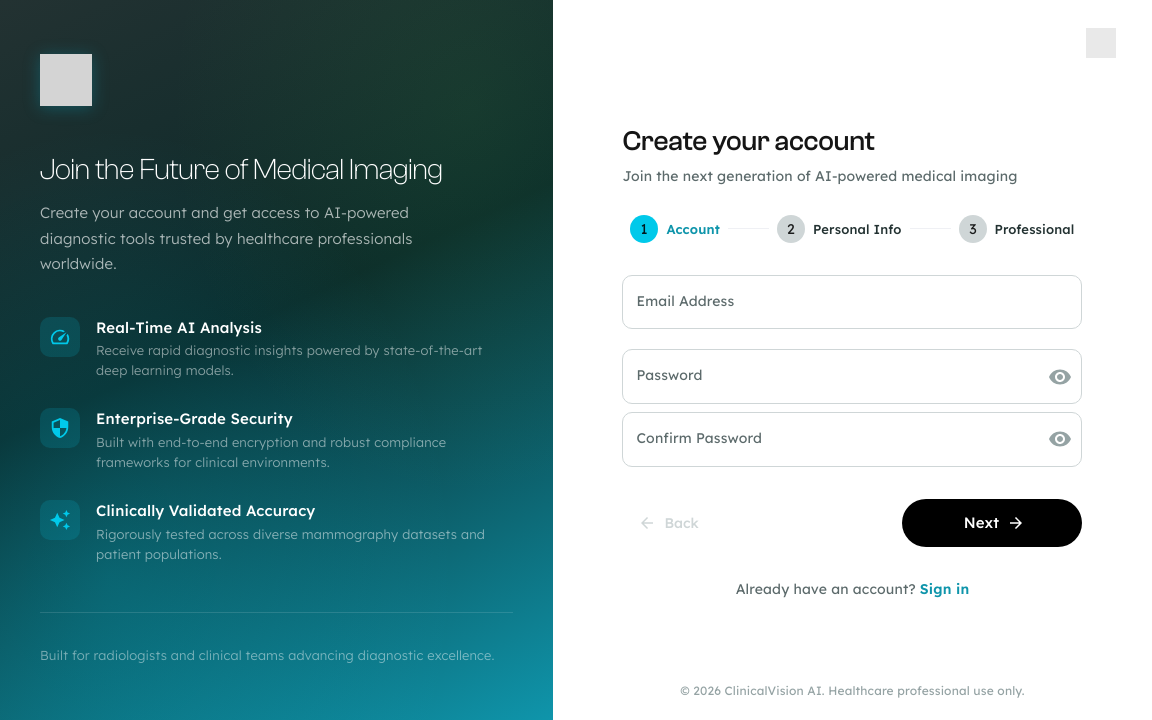
it: RegisterPage — Password Hints Visual Feedback › shows green check for digit when password has a number
Type "1" into the password field labelled "Password".
click(828, 377); type("1")  # box [622,349,1032,404]
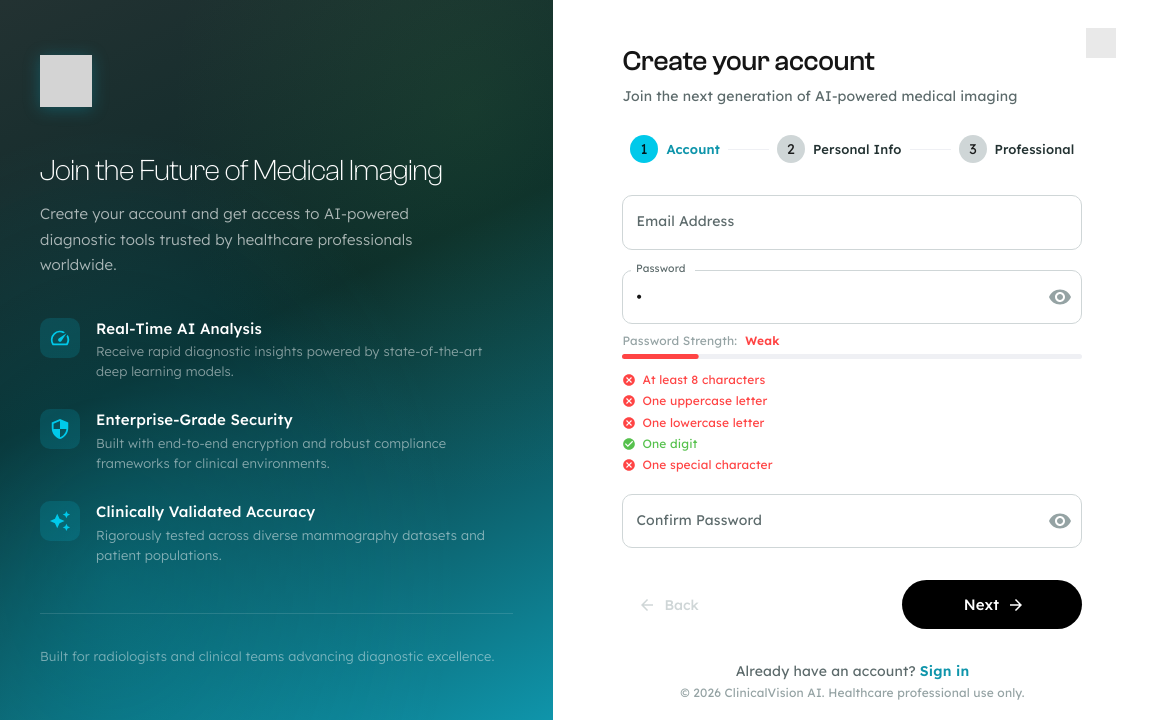
Check: the icon with test id "check-digit" is shown, box [622,437,636,451]
Check: the icon with test id "cross-uppercase" is shown, box [622,394,636,408]
Check: the icon with test id "cross-lowercase" is shown, box [622,416,636,430]
